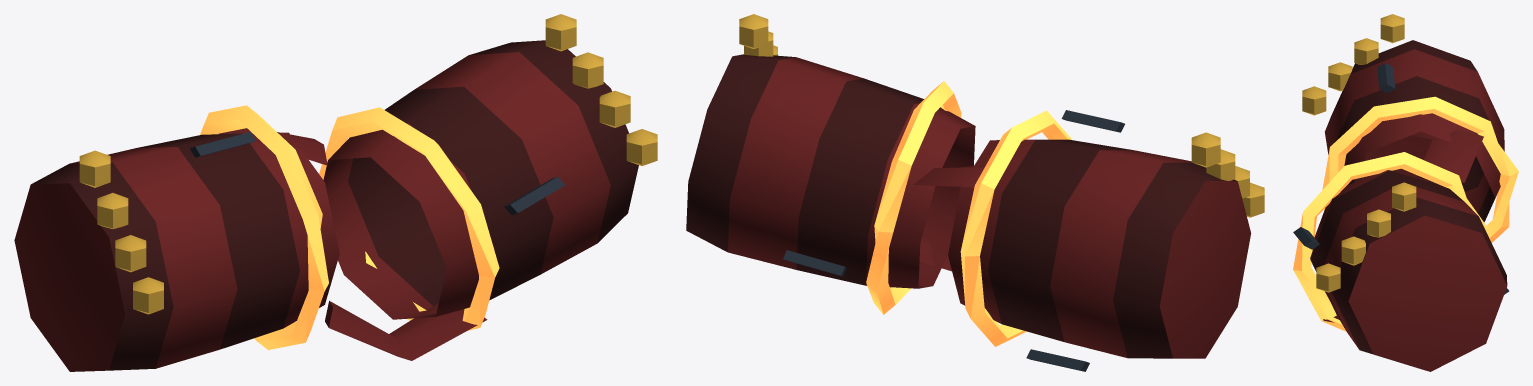
File: handwraps-gilt.glb
The picture shows the model from 3 angles, left to right: view 1: azimuth 30°, elevation 25°; view 2: azimuth 150°, elevation 25°; view 3: azimuth 270°, elevation 25°; orthographic projection. The views are drawn at different scales.
Parts seen in each view (by area): view 1: handwraps-gilt, OffHand; view 2: handwraps-gilt, OffHand; view 3: OffHand, handwraps-gilt.
Boxes of the visible parts, box(x1,y1,x2,y2) form: handwraps-gilt: box(14, 105, 487, 371); OffHand: box(218, 14, 657, 330); handwraps-gilt: box(919, 110, 1264, 371); OffHand: box(686, 14, 984, 314); OffHand: box(1293, 130, 1509, 371); handwraps-gilt: box(1302, 14, 1518, 322).
Size of the model in its own units: 0.2132 by 0.1032 by 0.0978.
